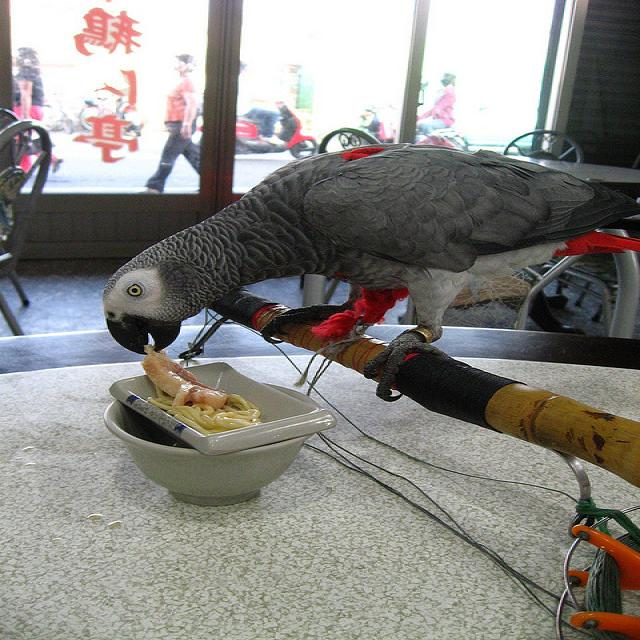motor: (236, 100, 318, 158)
